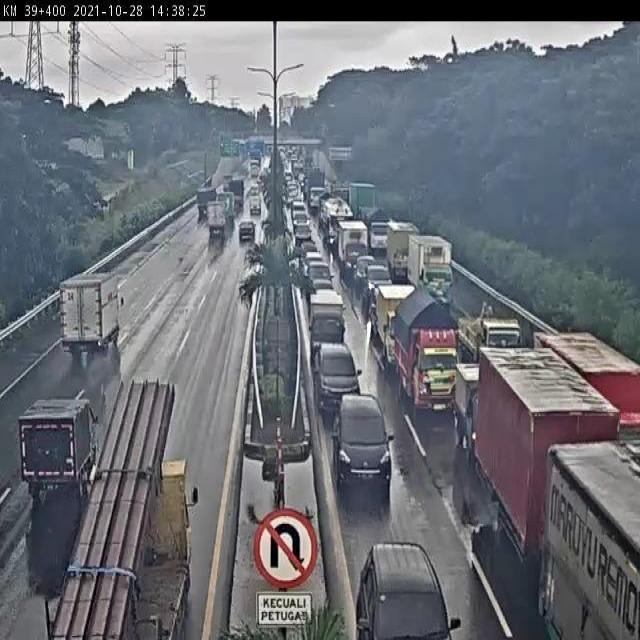big truck: (55, 378, 183, 640), (474, 347, 619, 557), (547, 437, 640, 640), (544, 326, 640, 454)
car: (353, 522, 457, 640), (331, 389, 392, 487), (306, 336, 367, 421), (369, 260, 398, 305), (307, 261, 338, 296), (354, 255, 378, 282), (238, 219, 257, 244)
small truck: (395, 285, 470, 415), (13, 398, 94, 498), (59, 268, 123, 356), (377, 291, 434, 372), (407, 236, 467, 303), (472, 303, 516, 387), (453, 366, 486, 442), (309, 290, 347, 354), (336, 223, 377, 281), (207, 201, 226, 235), (196, 185, 216, 216)
